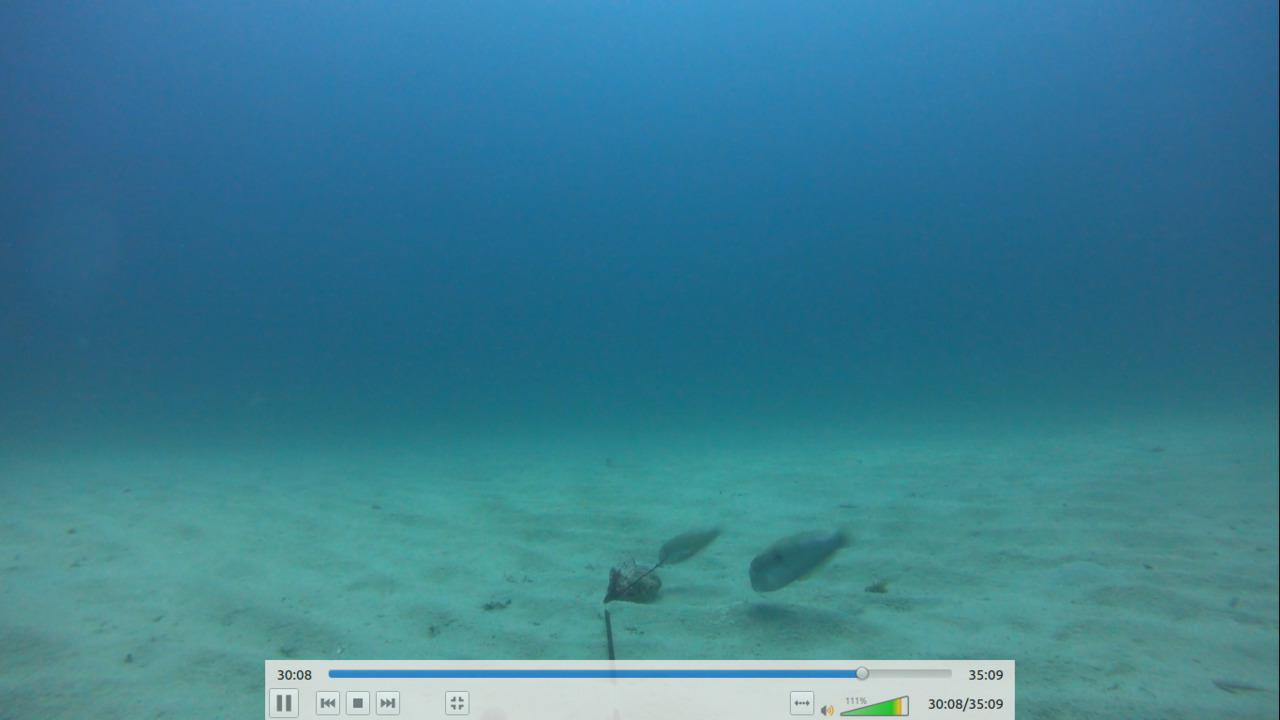raor: (746, 527, 855, 595), (652, 521, 721, 568)
